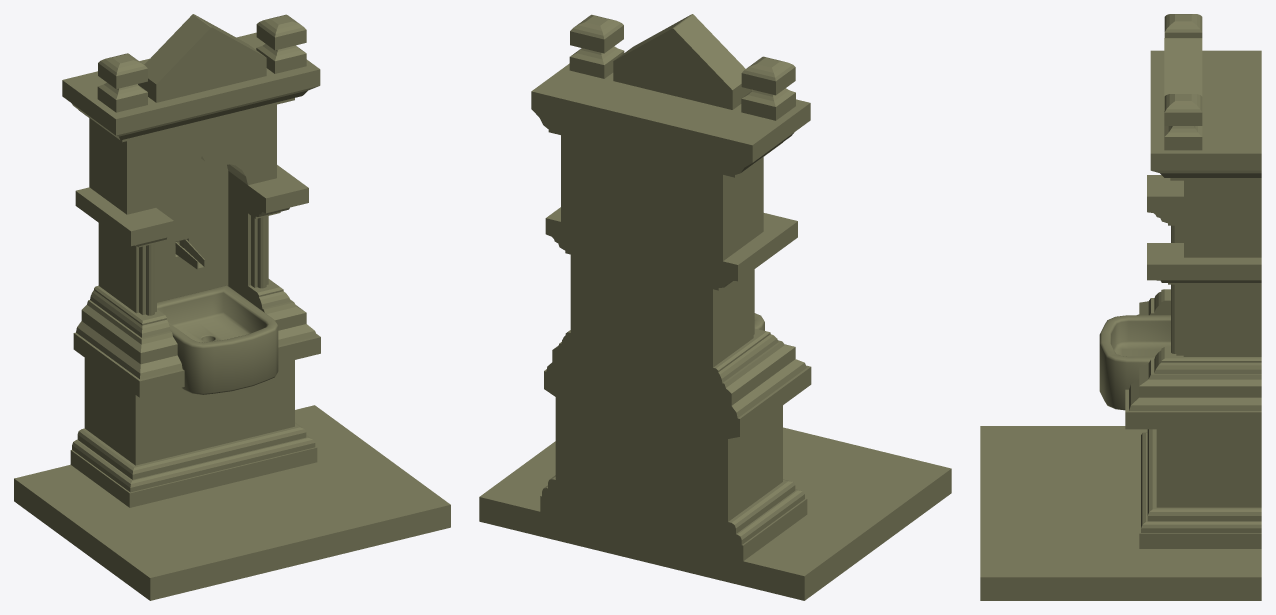
Rendered from drink_fontain.fbx.
3 views of the same model, side by side, from view 1: azimuth 30°, elevation 25°; view 2: azimuth 150°, elevation 25°; view 3: azimuth 270°, elevation 25° (orthographic). The views are drawn at different scales.
Visible parts, largest first — view 1: drink_fontain; view 2: drink_fontain; view 3: drink_fontain.
Part boxes in pixels (box(x1,y1,x2,y2)): drink_fontain: box(14, 14, 450, 600); drink_fontain: box(479, 14, 951, 600); drink_fontain: box(980, 14, 1261, 600).
Bounding box in the file's own units: 0.257 × 0.3851 × 0.2014.
